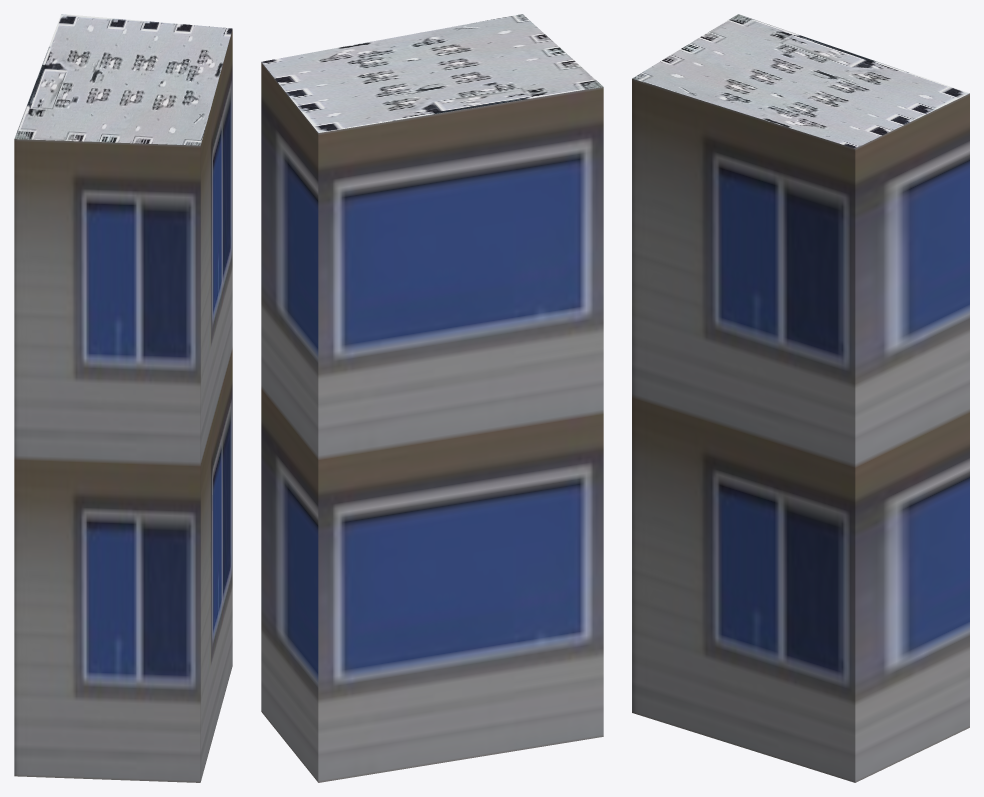
File: ResTex__2131.fbx
3 views of the same model, side by side, from view 1: azimuth 30°, elevation 25°; view 2: azimuth 150°, elevation 25°; view 3: azimuth 270°, elevation 25° (orthographic). The views are drawn at different scales.
Parts seen in each view (by area): view 1: CityEngineMaterial_23_m, CityEngineMaterial_4_m; view 2: CityEngineMaterial_23_m, CityEngineMaterial_4_m; view 3: CityEngineMaterial_23_m, CityEngineMaterial_4_m.
Boxes of the visible parts, x1,y1,x2,y2 form: CityEngineMaterial_23_m: (14, 29, 232, 782); CityEngineMaterial_4_m: (14, 14, 232, 145); CityEngineMaterial_23_m: (261, 62, 603, 782); CityEngineMaterial_4_m: (261, 14, 603, 132); CityEngineMaterial_23_m: (632, 78, 969, 782); CityEngineMaterial_4_m: (632, 14, 969, 148).
Bounding box in the file's own units: 2.73 × 6 × 2.9.
2 materials, 2 textured.
